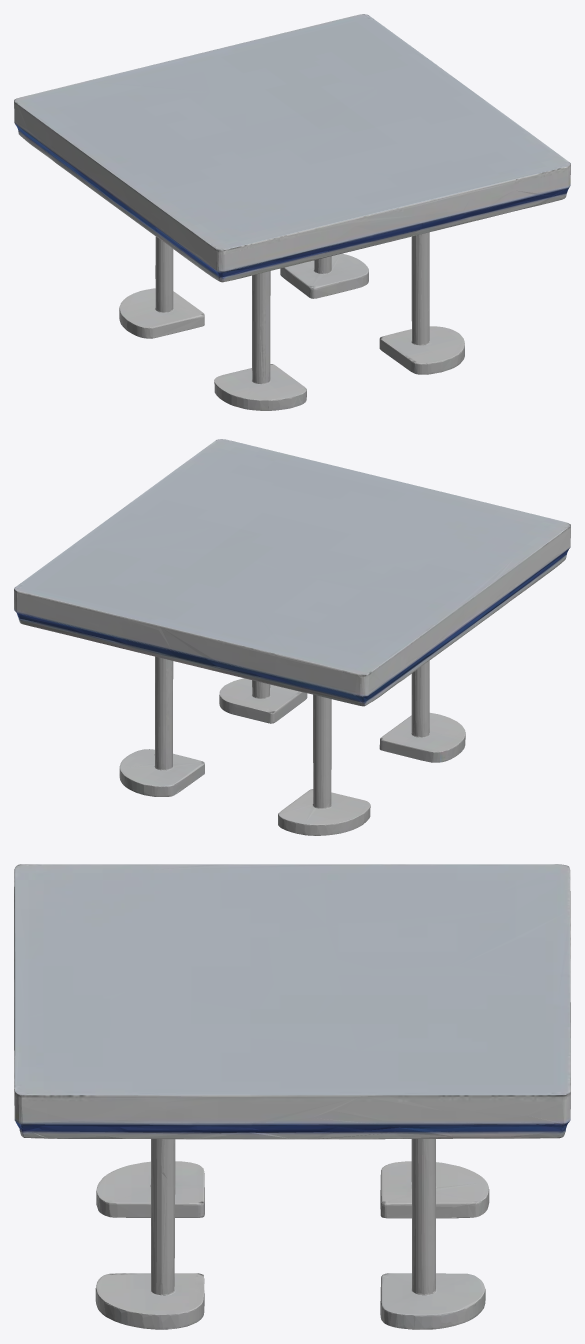
The model's file is lm_engen.glb.
The picture shows the model from 3 angles, top to bottom: view 1: azimuth 30°, elevation 25°; view 2: azimuth 150°, elevation 25°; view 3: azimuth 270°, elevation 25°; orthographic projection. The views are drawn at different scales.
Visible parts, largest first — view 1: geometry_0; view 2: geometry_0; view 3: geometry_0.
Part boxes in pixels (x1,y1,x2,y2): geometry_0: [14, 14, 570, 410]; geometry_0: [14, 439, 570, 835]; geometry_0: [14, 864, 570, 1329].
Size of the model in its own units: 0.9997 by 0.5523 by 1.02.
Materials: 1 (1 with a texture image).
